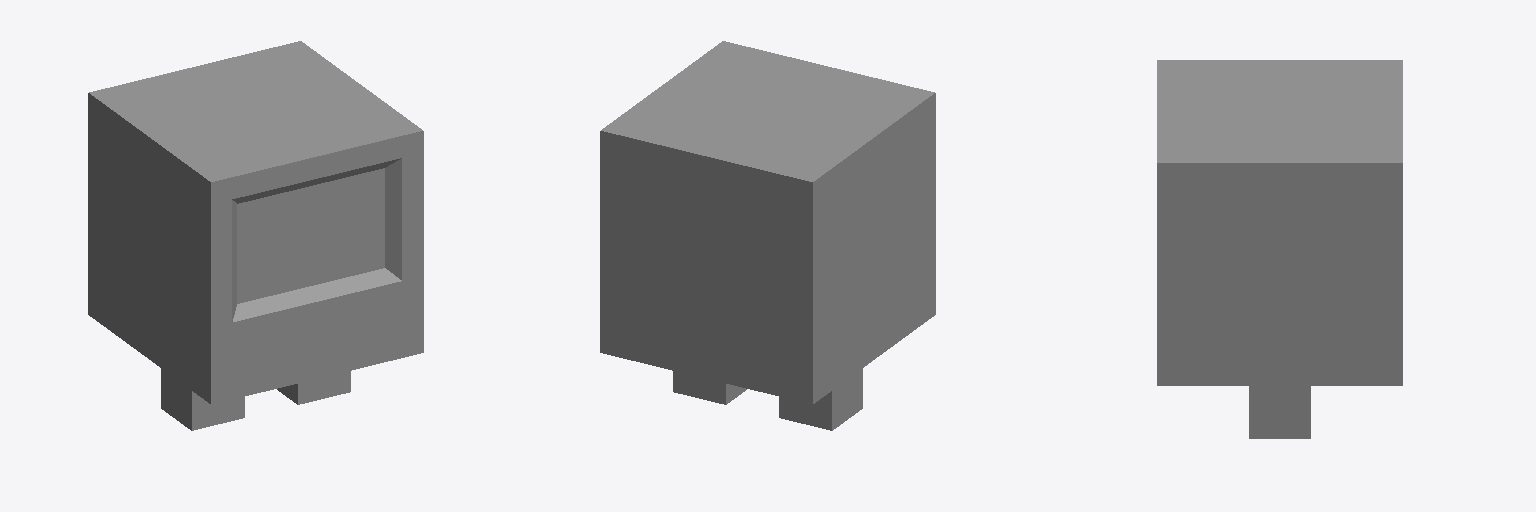
File: character-v2.obj
3 views of the same model, side by side, from view 1: azimuth 30°, elevation 25°; view 2: azimuth 150°, elevation 25°; view 3: azimuth 270°, elevation 25° (orthographic).
Visible parts, largest first — view 1: Cube; view 2: Cube; view 3: Cube.
Part boxes in pixels (bbox=[...]): Cube: bbox=[88, 41, 423, 430]; Cube: bbox=[600, 41, 935, 430]; Cube: bbox=[1157, 60, 1402, 438].
Bounding box in the file's own units: 2 × 2.6 × 2.